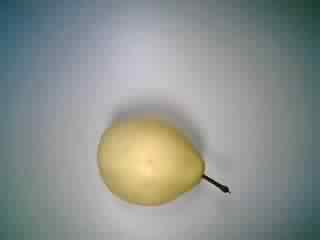pear: (87, 108, 236, 216)
